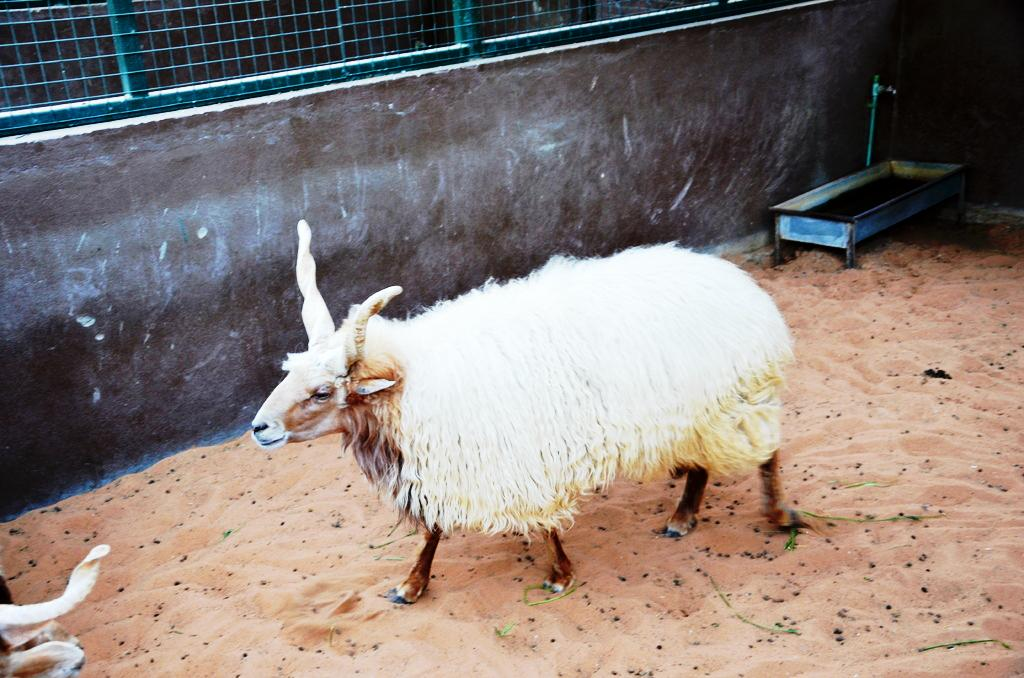Sheep: (251, 220, 812, 604)
